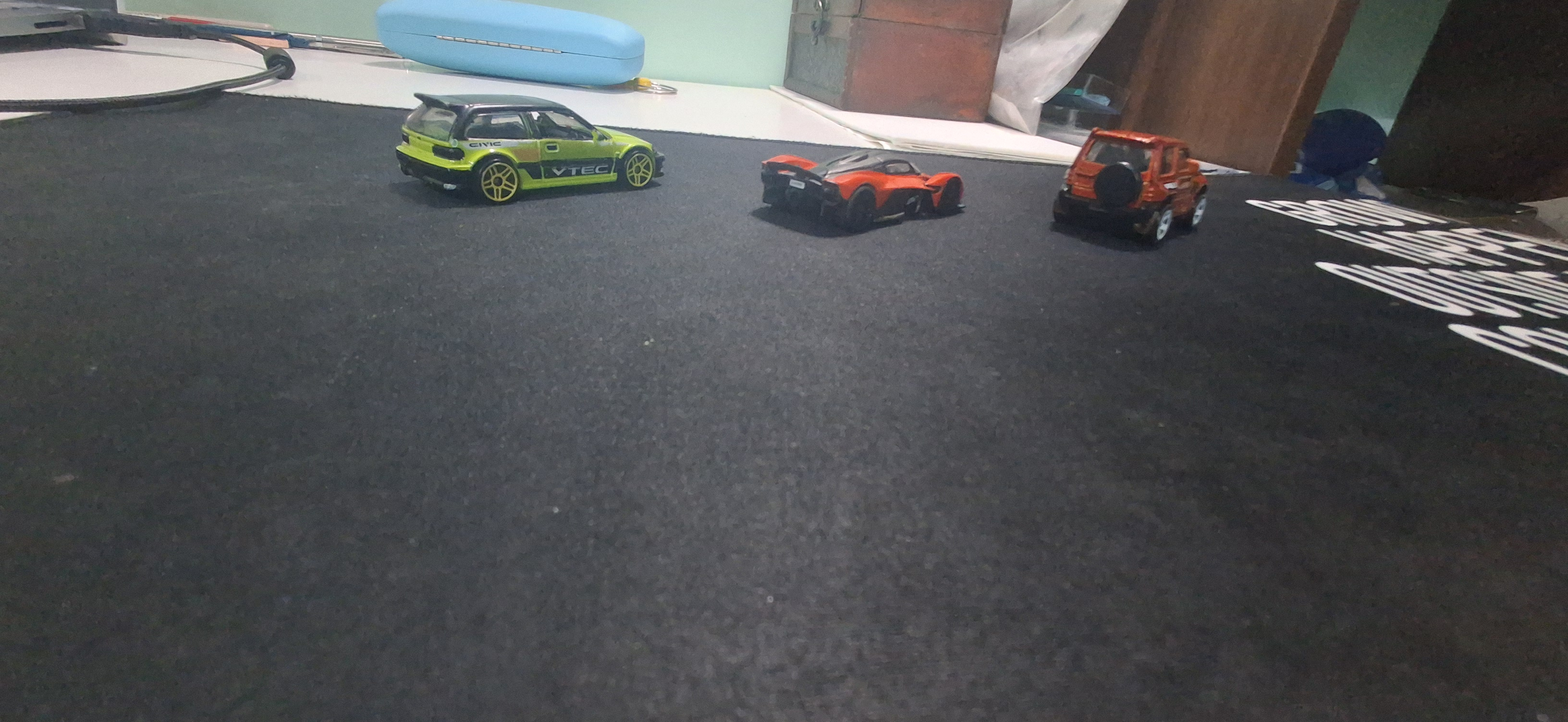Aston_Martin_Valkyrie: (751, 114, 997, 276)
Honda_Civic: (382, 66, 696, 246)
Mitsubishi_Pajero_Evolution: (1041, 109, 1244, 261)
